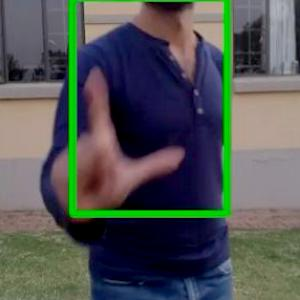land_hand: (47, 57, 187, 224)
